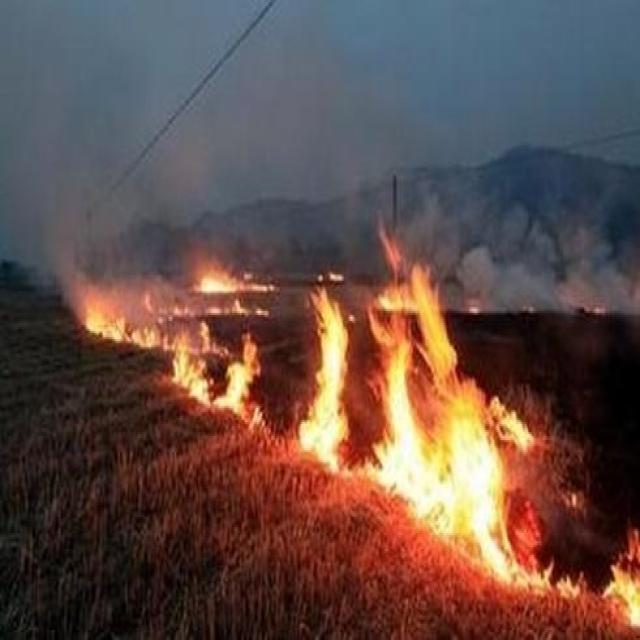Fire: (294, 204, 588, 602), (82, 274, 275, 432), (599, 525, 640, 630)
Smoke: (47, 103, 287, 329), (393, 155, 640, 314)
